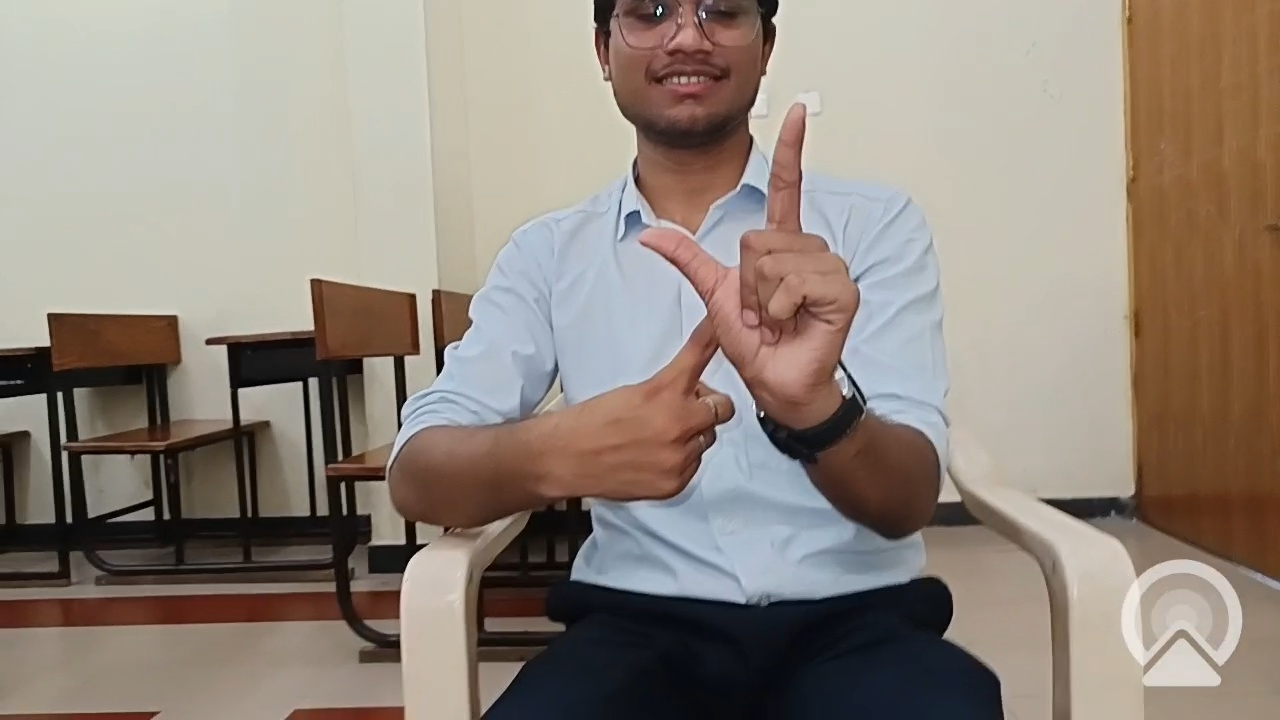Y: (550, 69, 898, 553)
